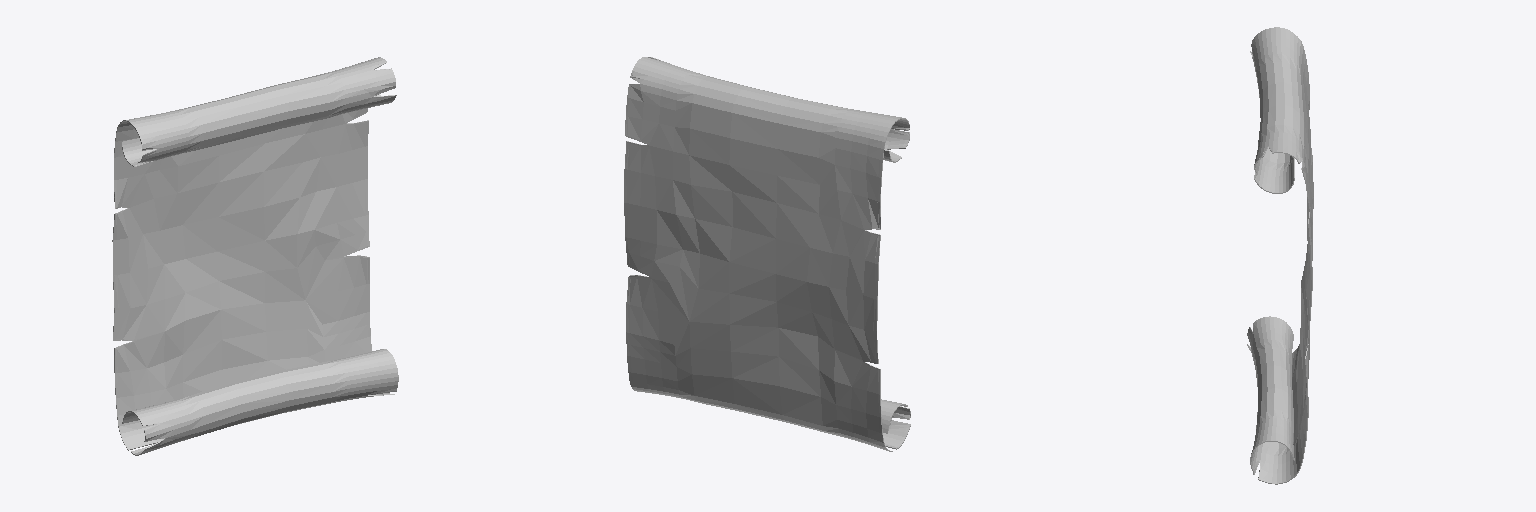
Rendered from 14059_Pirate_Treasure_map_Scroll_v1_L1.obj.
The picture shows the model from 3 angles: view 1: azimuth 30°, elevation 25°; view 2: azimuth 150°, elevation 25°; view 3: azimuth 270°, elevation 25°; orthographic projection.
Parts seen in each view (by area): view 1: 14059PirateTreasuremapScroll; view 2: 14059PirateTreasuremapScroll; view 3: 14059PirateTreasuremapScroll.
Boxes of the visible parts, box(x1,y1,x2,y2) form: 14059PirateTreasuremapScroll: box(112, 57, 398, 455); 14059PirateTreasuremapScroll: box(624, 57, 910, 451); 14059PirateTreasuremapScroll: box(1247, 27, 1313, 484).
Bounding box in the file's own units: 11.88 × 14.75 × 2.71.